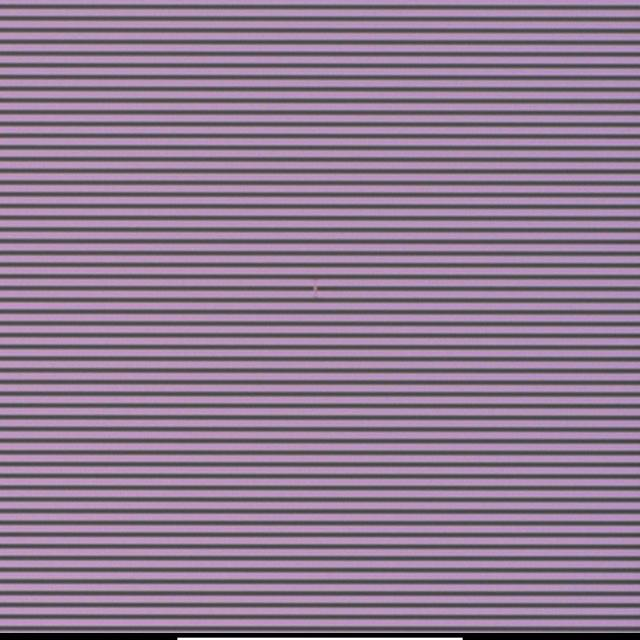03_intrusion: (306, 277, 322, 298)
